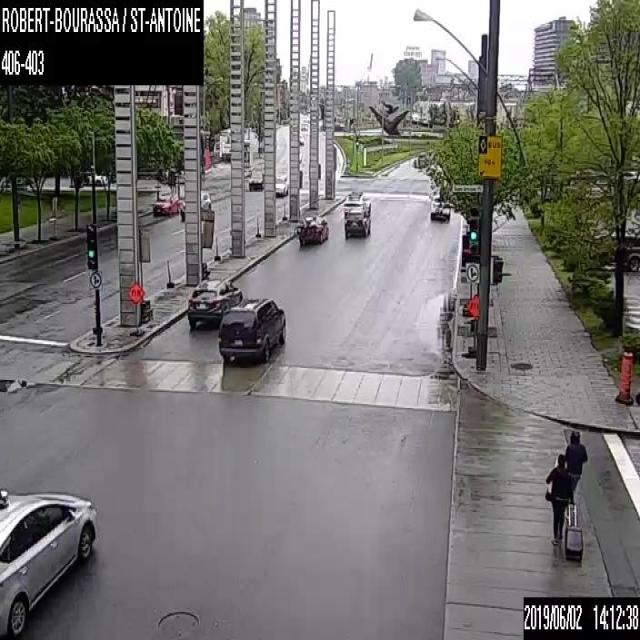construction: (138, 230, 151, 321), (465, 292, 480, 358), (127, 279, 144, 336), (616, 350, 633, 405), (200, 209, 213, 276)
pedestrian: (544, 453, 582, 561), (564, 428, 589, 504), (167, 170, 176, 193)
vehicle: (0, 486, 97, 638), (218, 298, 286, 364), (186, 276, 242, 328), (294, 212, 328, 245), (180, 189, 210, 221), (342, 191, 370, 217), (344, 208, 370, 236), (429, 192, 451, 222), (152, 193, 178, 216), (71, 169, 107, 184), (248, 169, 263, 191), (274, 174, 287, 196), (298, 132, 304, 144)
